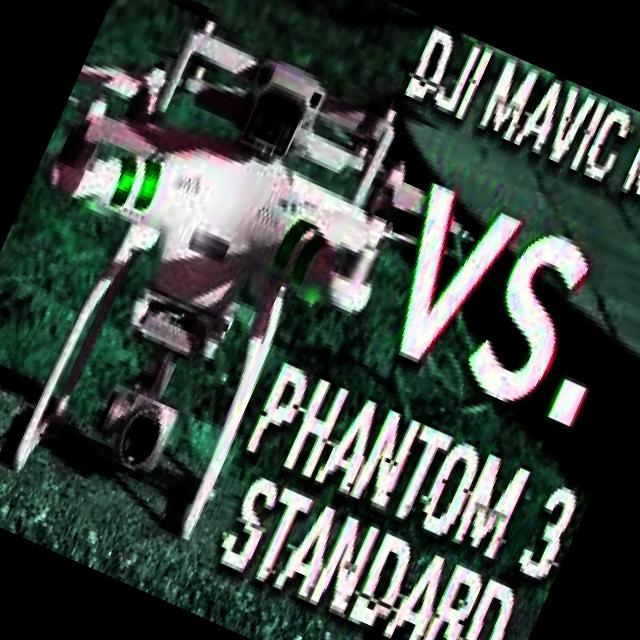drone: (0, 46, 439, 581), (147, 4, 426, 220)
